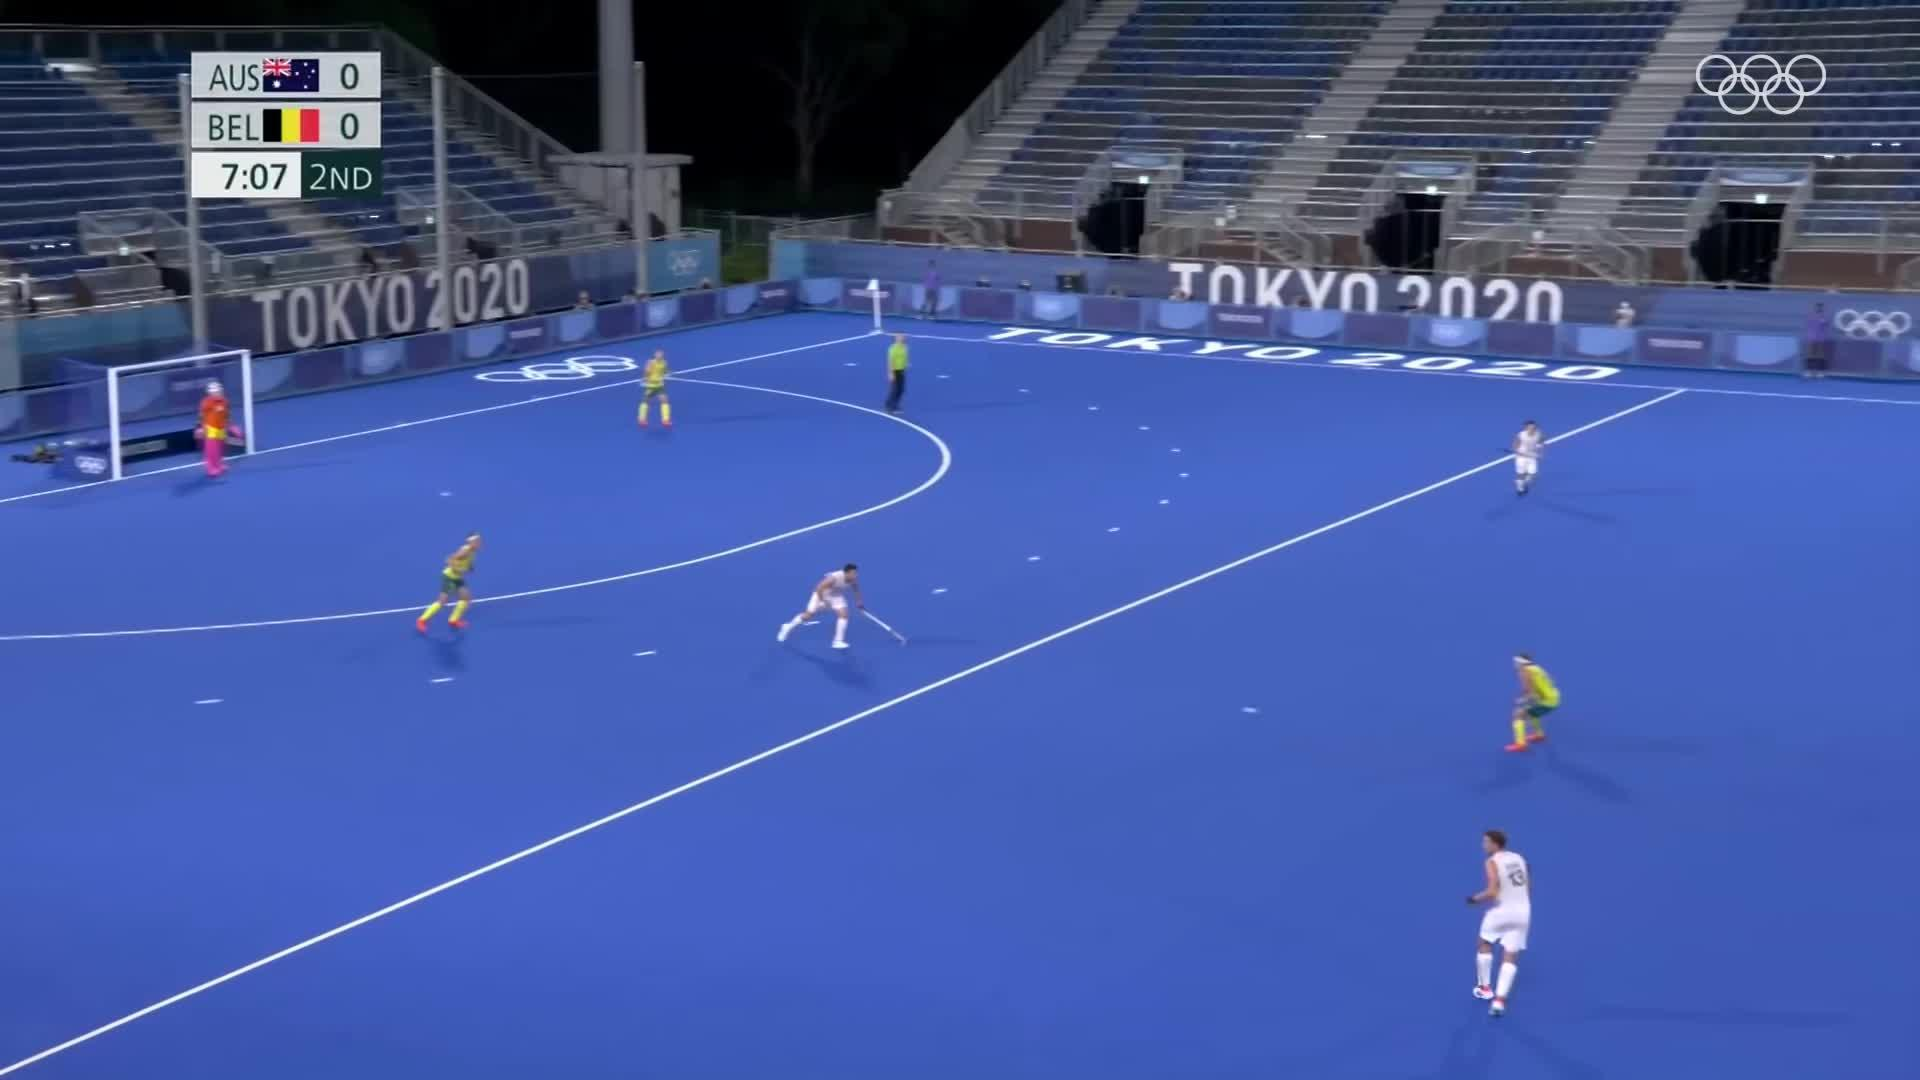ball: (1234, 701, 1265, 721)
